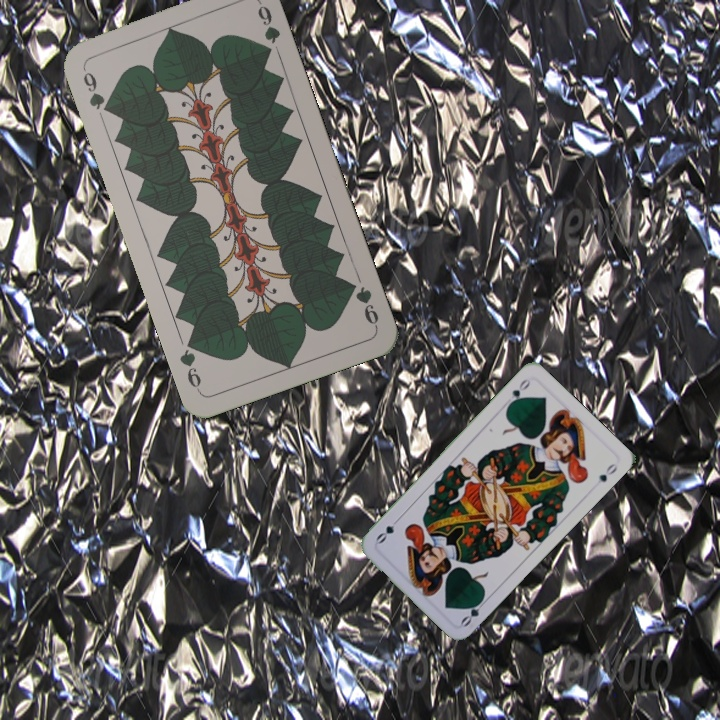G9: (344, 277, 381, 330), (78, 63, 114, 117)
GO: (457, 593, 490, 629), (504, 375, 533, 409)
